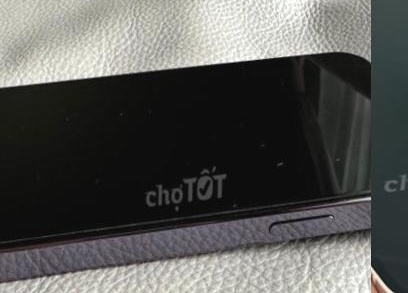scratch: (168, 193, 241, 215), (271, 153, 288, 178), (331, 146, 343, 167)
